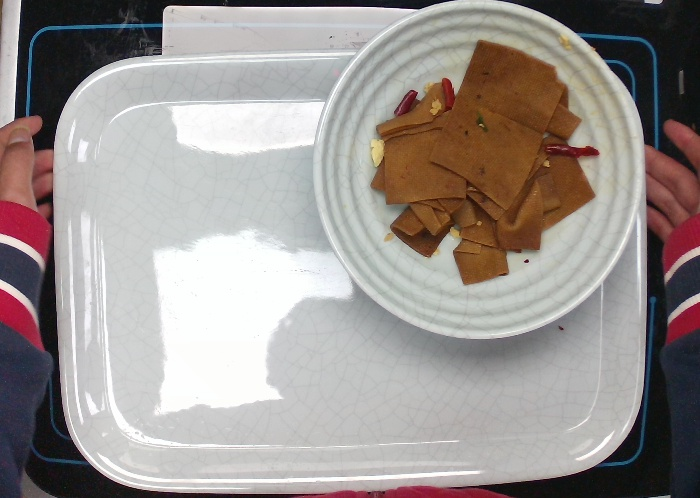JYsf-Da_Tang_Wan: (310, 1, 645, 341)
